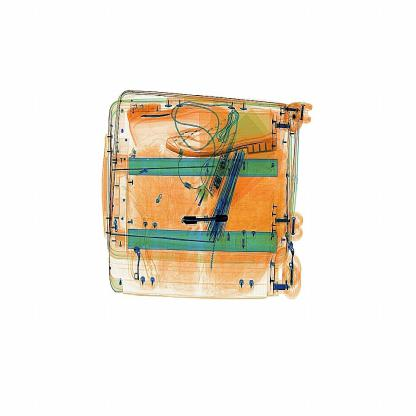knife: (180, 212, 232, 228)
